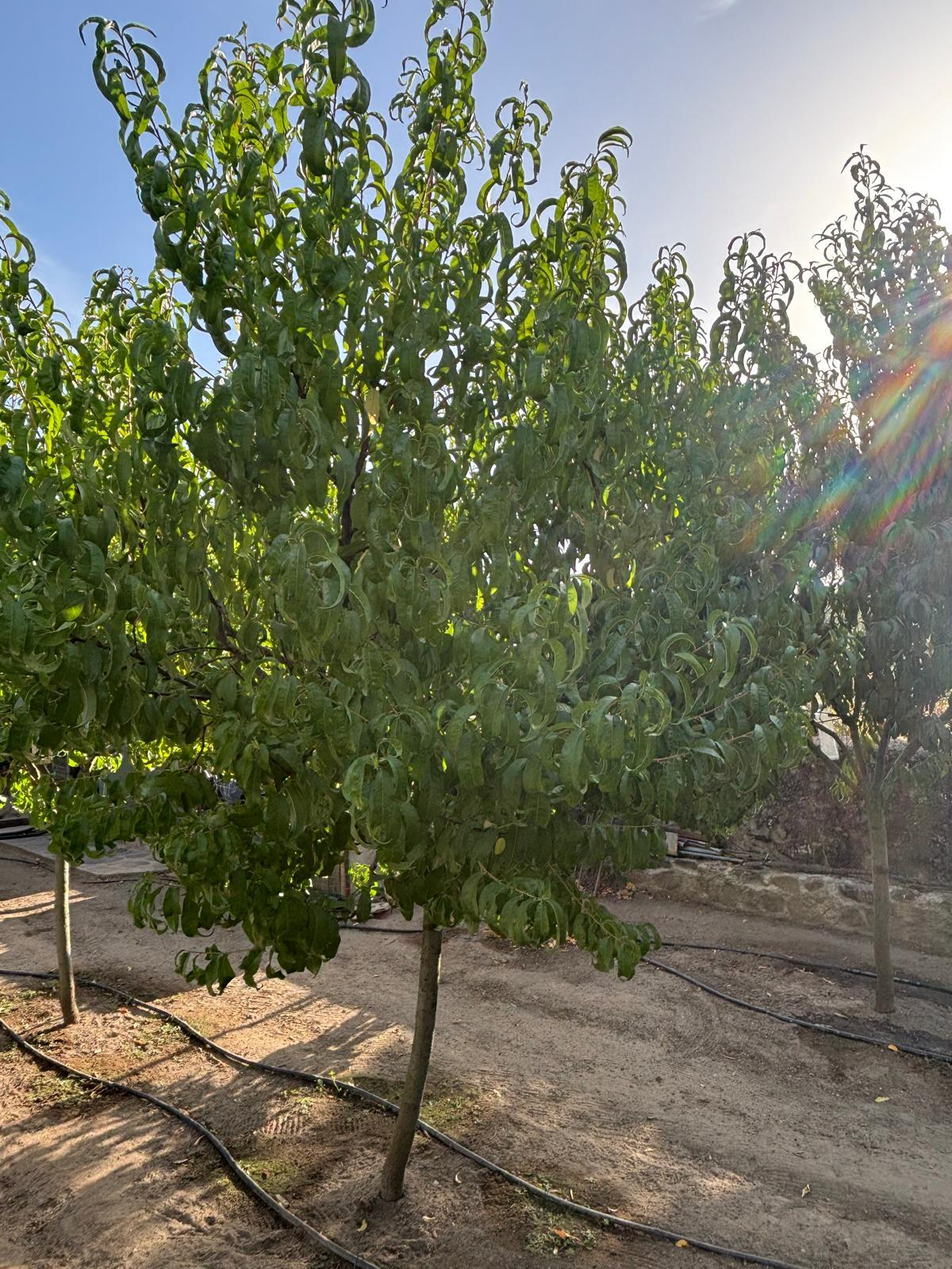melocotonero: (138, 212, 715, 1238)
